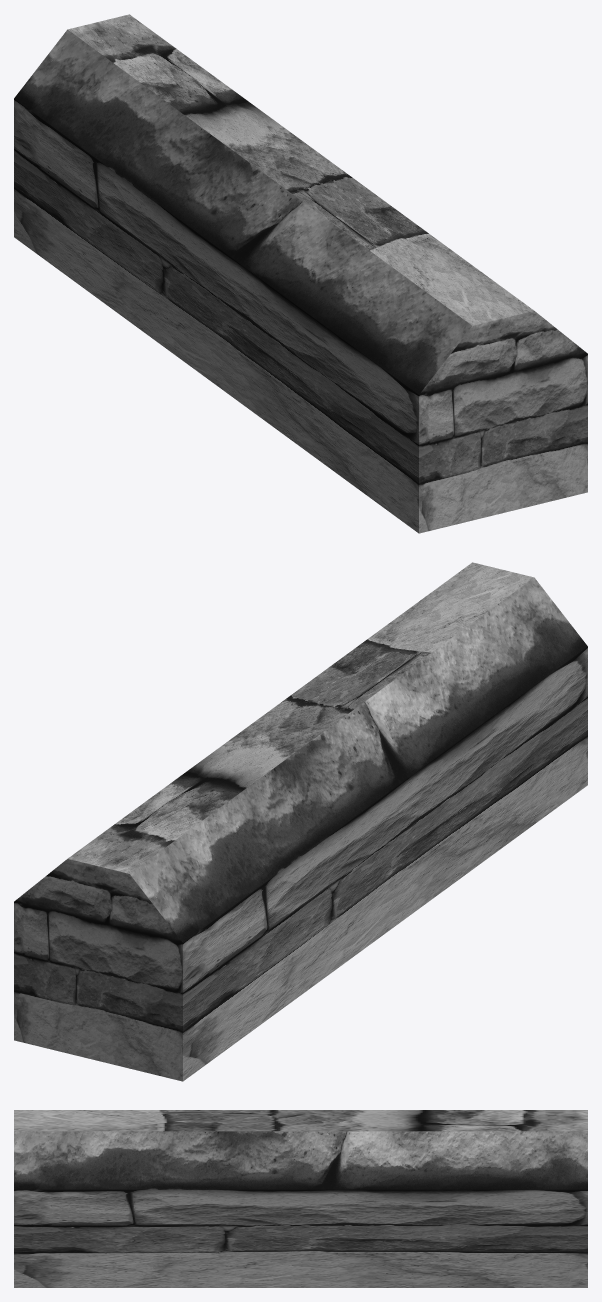
File: WallModel.fbx
3 renders of one model, top to bottom at view 1: azimuth 30°, elevation 25°; view 2: azimuth 150°, elevation 25°; view 3: azimuth 270°, elevation 25°, orthographic. The views are drawn at different scales.
Parts seen in each view (by area): view 1: Box001; view 2: Box001; view 3: Box001.
Part boxes in pixels (x1=…): Box001: x1=14, y1=14, x2=587, y2=533; Box001: x1=14, y1=562, x2=587, y2=1081; Box001: x1=14, y1=1110, x2=587, y2=1287.
Size of the model in its own units: 0.6309 by 0.6943 by 2.62.
Materials: 1 (1 with a texture image).
